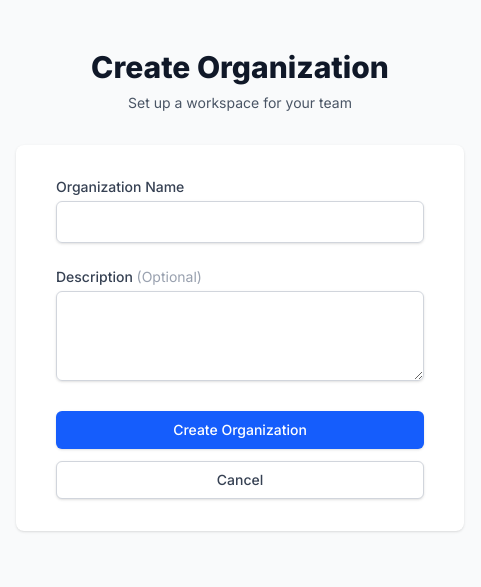
Scenario: Organization Onboarding & Workspace › 13. Error state works when creation fails
This screenshot has width=481, height=587.
In the field labelled "Organization Name": [240, 222] box [56,201,424,243], type "Duplicate"
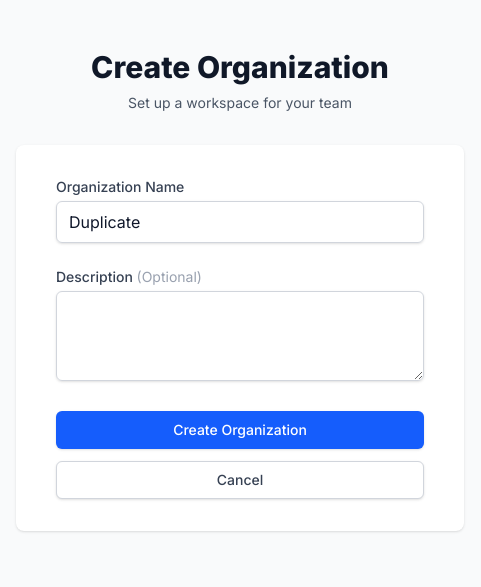
Click the button "Create Organization": [240, 430] box [56,411,424,449]
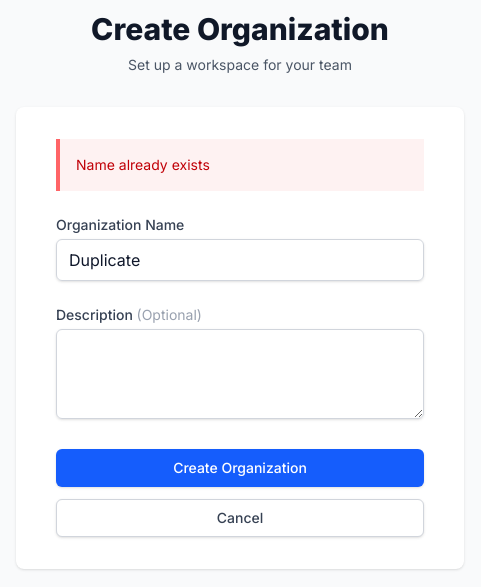
Result: the text "Name already exists" is shown at [76,156,210,173]
